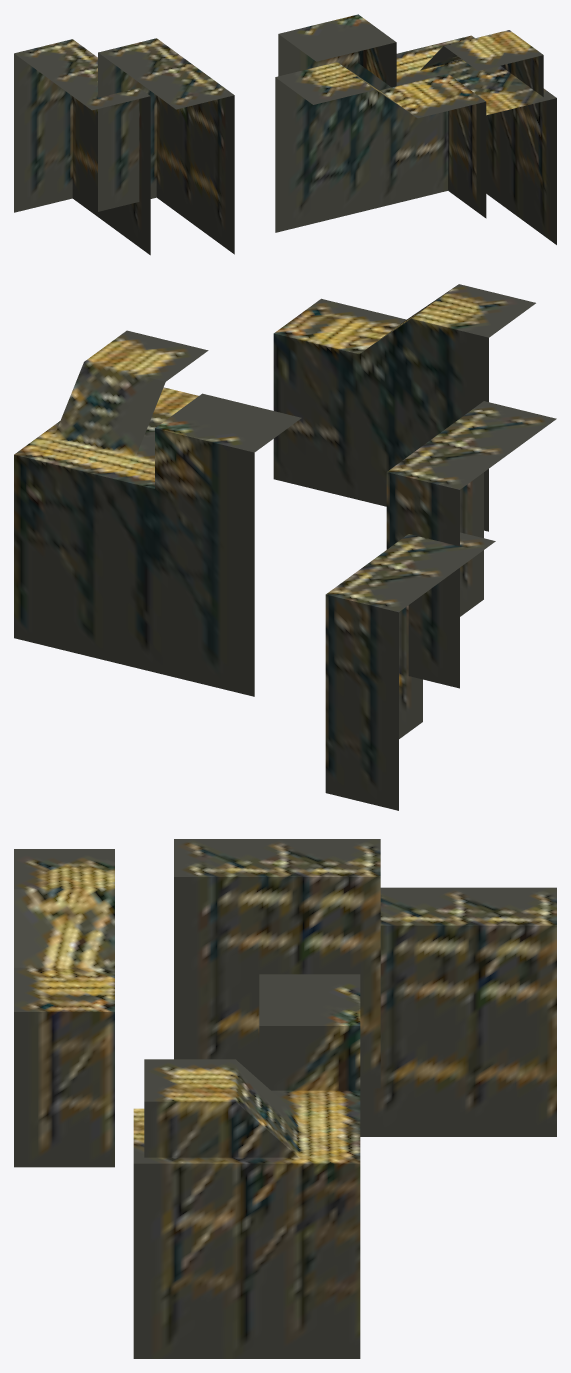
File: T_Torpedo_01.fbx
The picture shows the model from 3 angles, top to bottom: view 1: azimuth 30°, elevation 25°; view 2: azimuth 150°, elevation 25°; view 3: azimuth 270°, elevation 25°; orthographic projection. The views are drawn at different scales.
Visible parts, largest first — view 1: T_BuildForm_03, T_BuildForm_01, T_BuildForm_02 (1), T_BuildForm_02 (2); view 2: T_BuildForm_01, T_BuildForm_03, T_BuildForm_02 (2), T_BuildForm_02 (1); view 3: T_BuildForm_01, T_BuildForm_02 (2), T_BuildForm_02 (1), T_BuildForm_03.
Boxes of the visible parts, x1=… form: T_BuildForm_03: x1=275, y1=62, x2=486, y2=232; T_BuildForm_01: x1=278, y1=14, x2=556, y2=244; T_BuildForm_02 (1): x1=98, y1=38, x2=234, y2=254; T_BuildForm_02 (2): x1=14, y1=39, x2=150, y2=255; T_BuildForm_01: x1=14, y1=330, x2=301, y2=696; T_BuildForm_03: x1=273, y1=284, x2=535, y2=531; T_BuildForm_02 (2): x1=325, y1=532, x2=495, y2=810; T_BuildForm_02 (1): x1=386, y1=401, x2=556, y2=688; T_BuildForm_01: x1=133, y1=974, x2=360, y2=1358; T_BuildForm_02 (2): x1=360, y1=887, x2=556, y2=1136; T_BuildForm_02 (1): x1=174, y1=839, x2=380, y2=1088; T_BuildForm_03: x1=14, y1=849, x2=114, y2=1167.
Size of the model in its own units: 6.55 by 3.99 by 6.07.
1 material, 1 textured.
